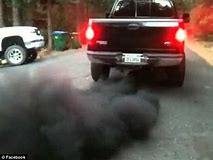smoke: (1, 74, 160, 151)
